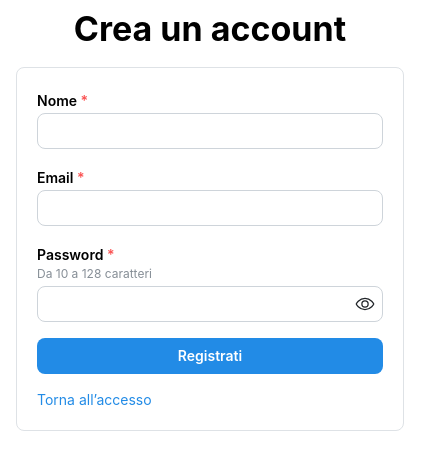
Scenario: signup shows Italian copy instead of the server field message
Type "Ada" into the field labelled "Nome *" at (210, 131), box [37,113,383,149]
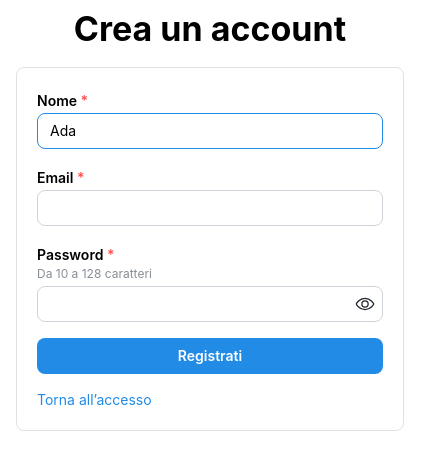
Type "a@b.it" into the field labelled "Email *" at (210, 208), box [37,190,383,226]
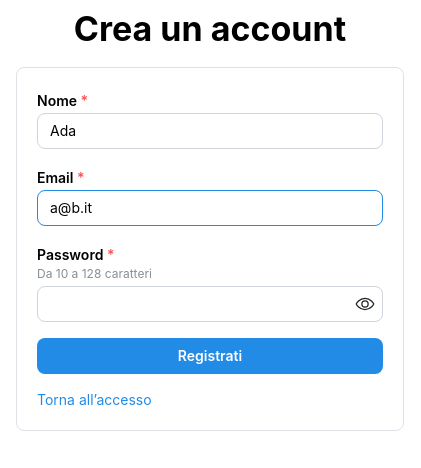
Type "supersecret1" into the password field labelled "Password *" at (210, 304), box [38,287,382,321]
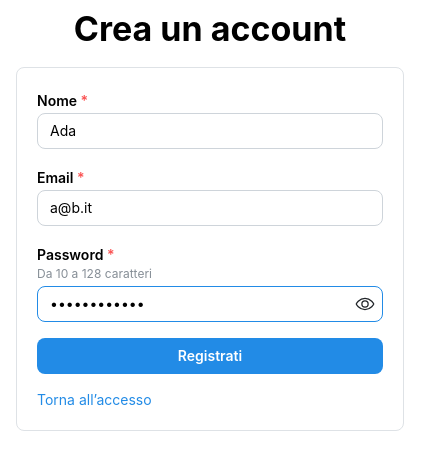
Click the button "Registrati" at (210, 356), box [37,338,383,374]
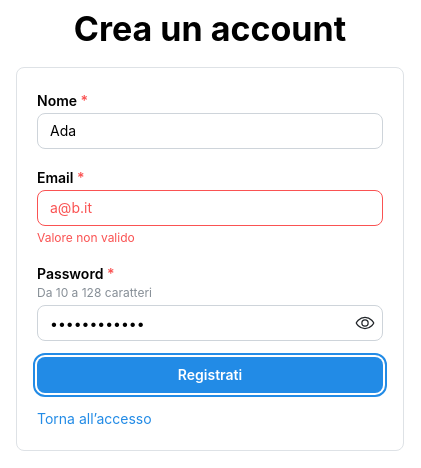
Expected: the text "Valore non valido" is shown, [37,230,135,245]
